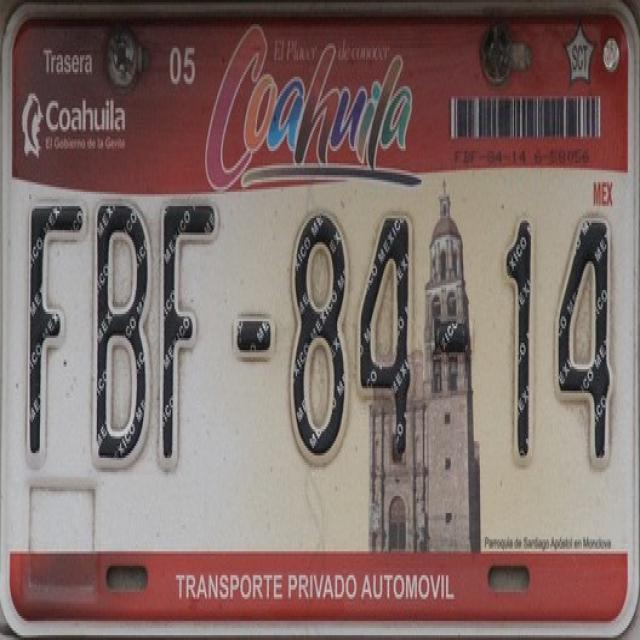placa: (4, 186, 631, 482)
